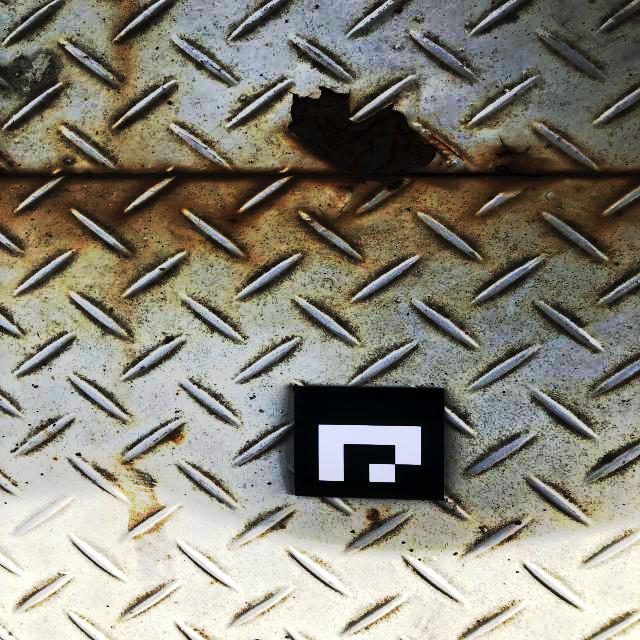Corrosion: (288, 87, 436, 199), (474, 143, 545, 184)
